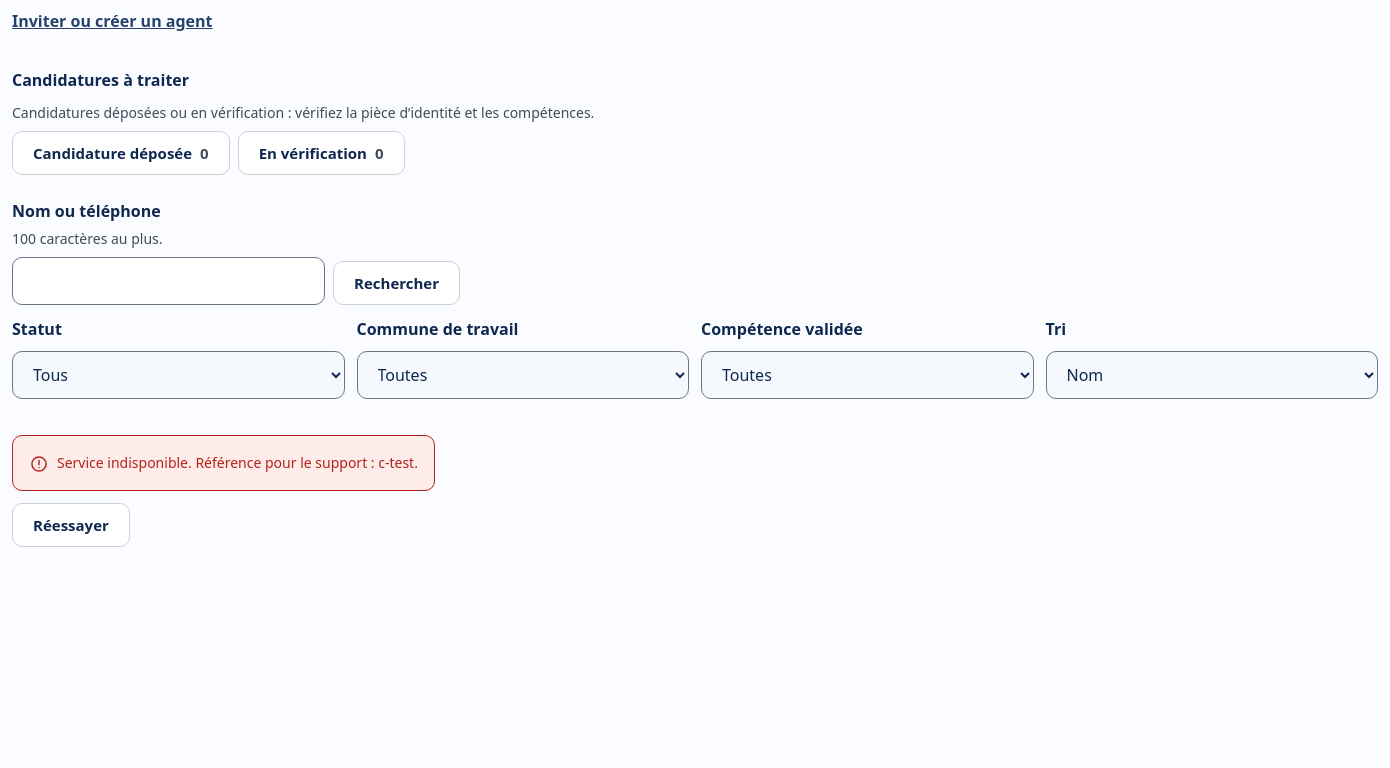
Test: agents et candidatures › liste vide et erreur de lecture avec « Réessayer »
Click the button "Réessayer": coordinates (71, 525) [12,503,130,547]
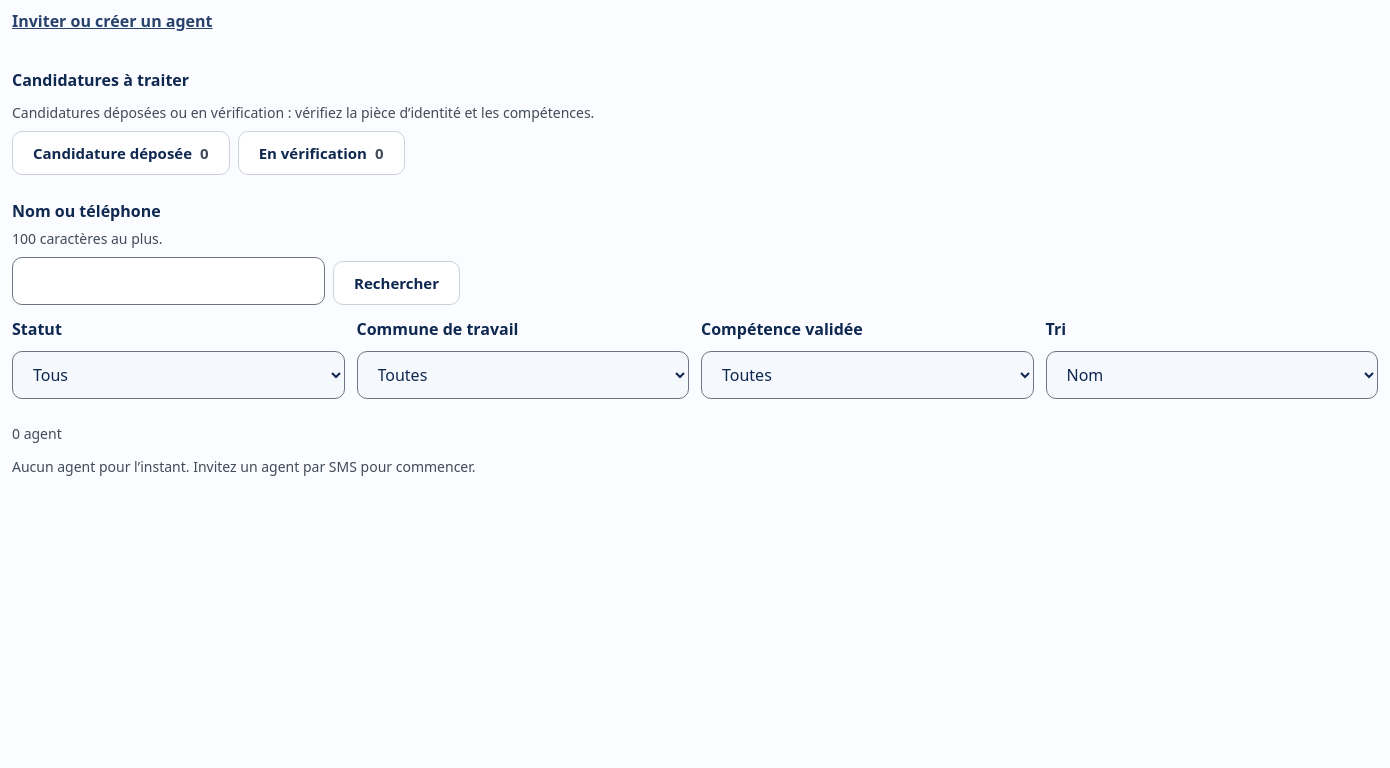
Now the text "Aucun agent pour l’instant" is shown, box [12,457,476,476]
